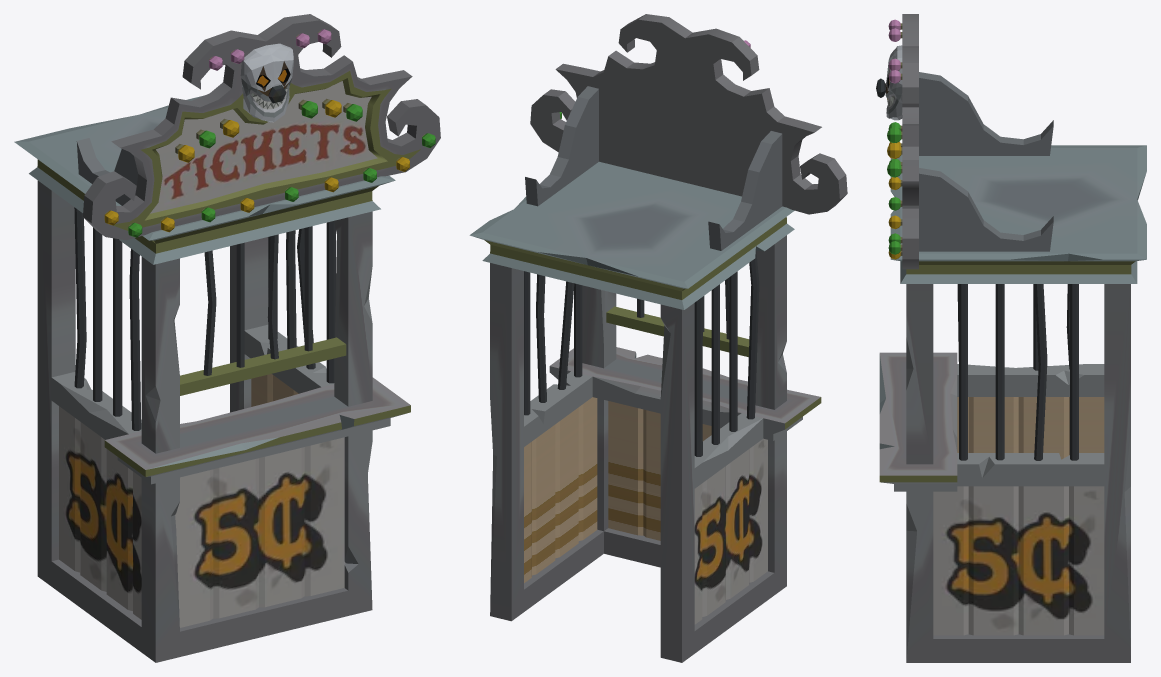
File: ticket-booth.glb
3 renders of one model, left to right at view 1: azimuth 30°, elevation 25°; view 2: azimuth 150°, elevation 25°; view 3: azimuth 270°, elevation 25°, orthographic. The views are drawn at different scales.
Parts seen in each view (by area): view 1: SM_Prop_Ticket_Booth_01; view 2: SM_Prop_Ticket_Booth_01; view 3: SM_Prop_Ticket_Booth_01.
Part boxes in pixels (left/top/right/bottom): SM_Prop_Ticket_Booth_01: left=14, top=14, right=440, bottom=662; SM_Prop_Ticket_Booth_01: left=469, top=14, right=847, bottom=662; SM_Prop_Ticket_Booth_01: left=876, top=14, right=1146, bottom=662.
Bounding box in the file's own units: 177 × 295 × 125.
1 material, 1 textured.
